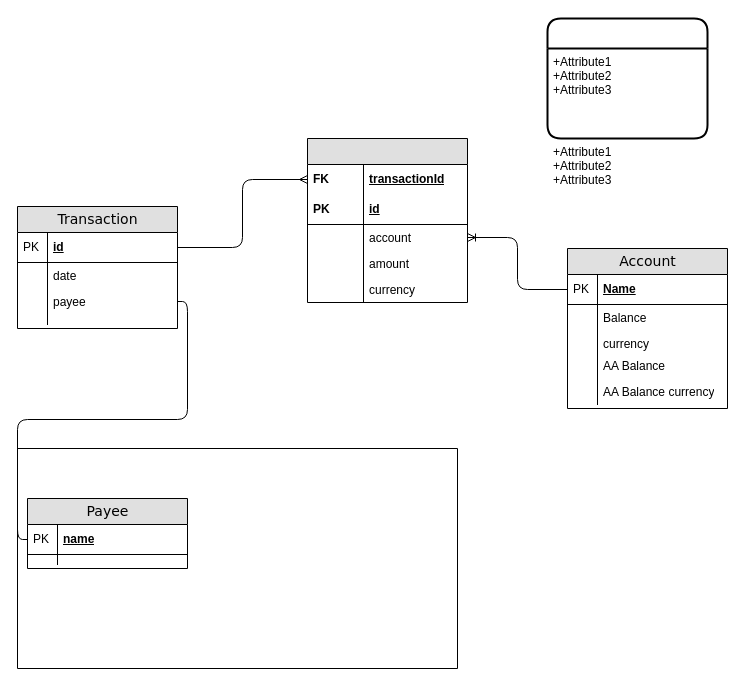
Image size: 745x686. Some labels were removed from this diagram. The shapes that lost their labels are listed below. From the top down, each one's box as (x1, y1, x2, y2) in pixels, then its label:
(546, 17, 708, 139): Asset Allocation
(306, 138, 468, 302): Posting
